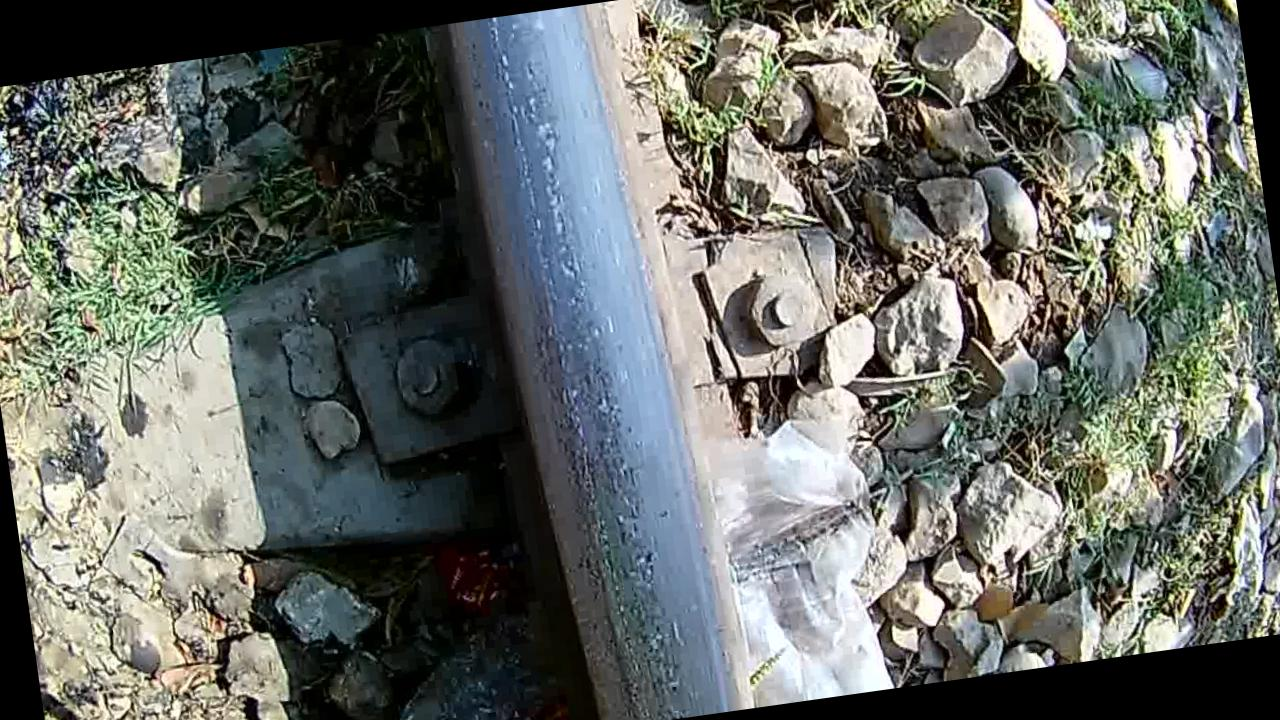clip_missing: (489, 5, 716, 720)
